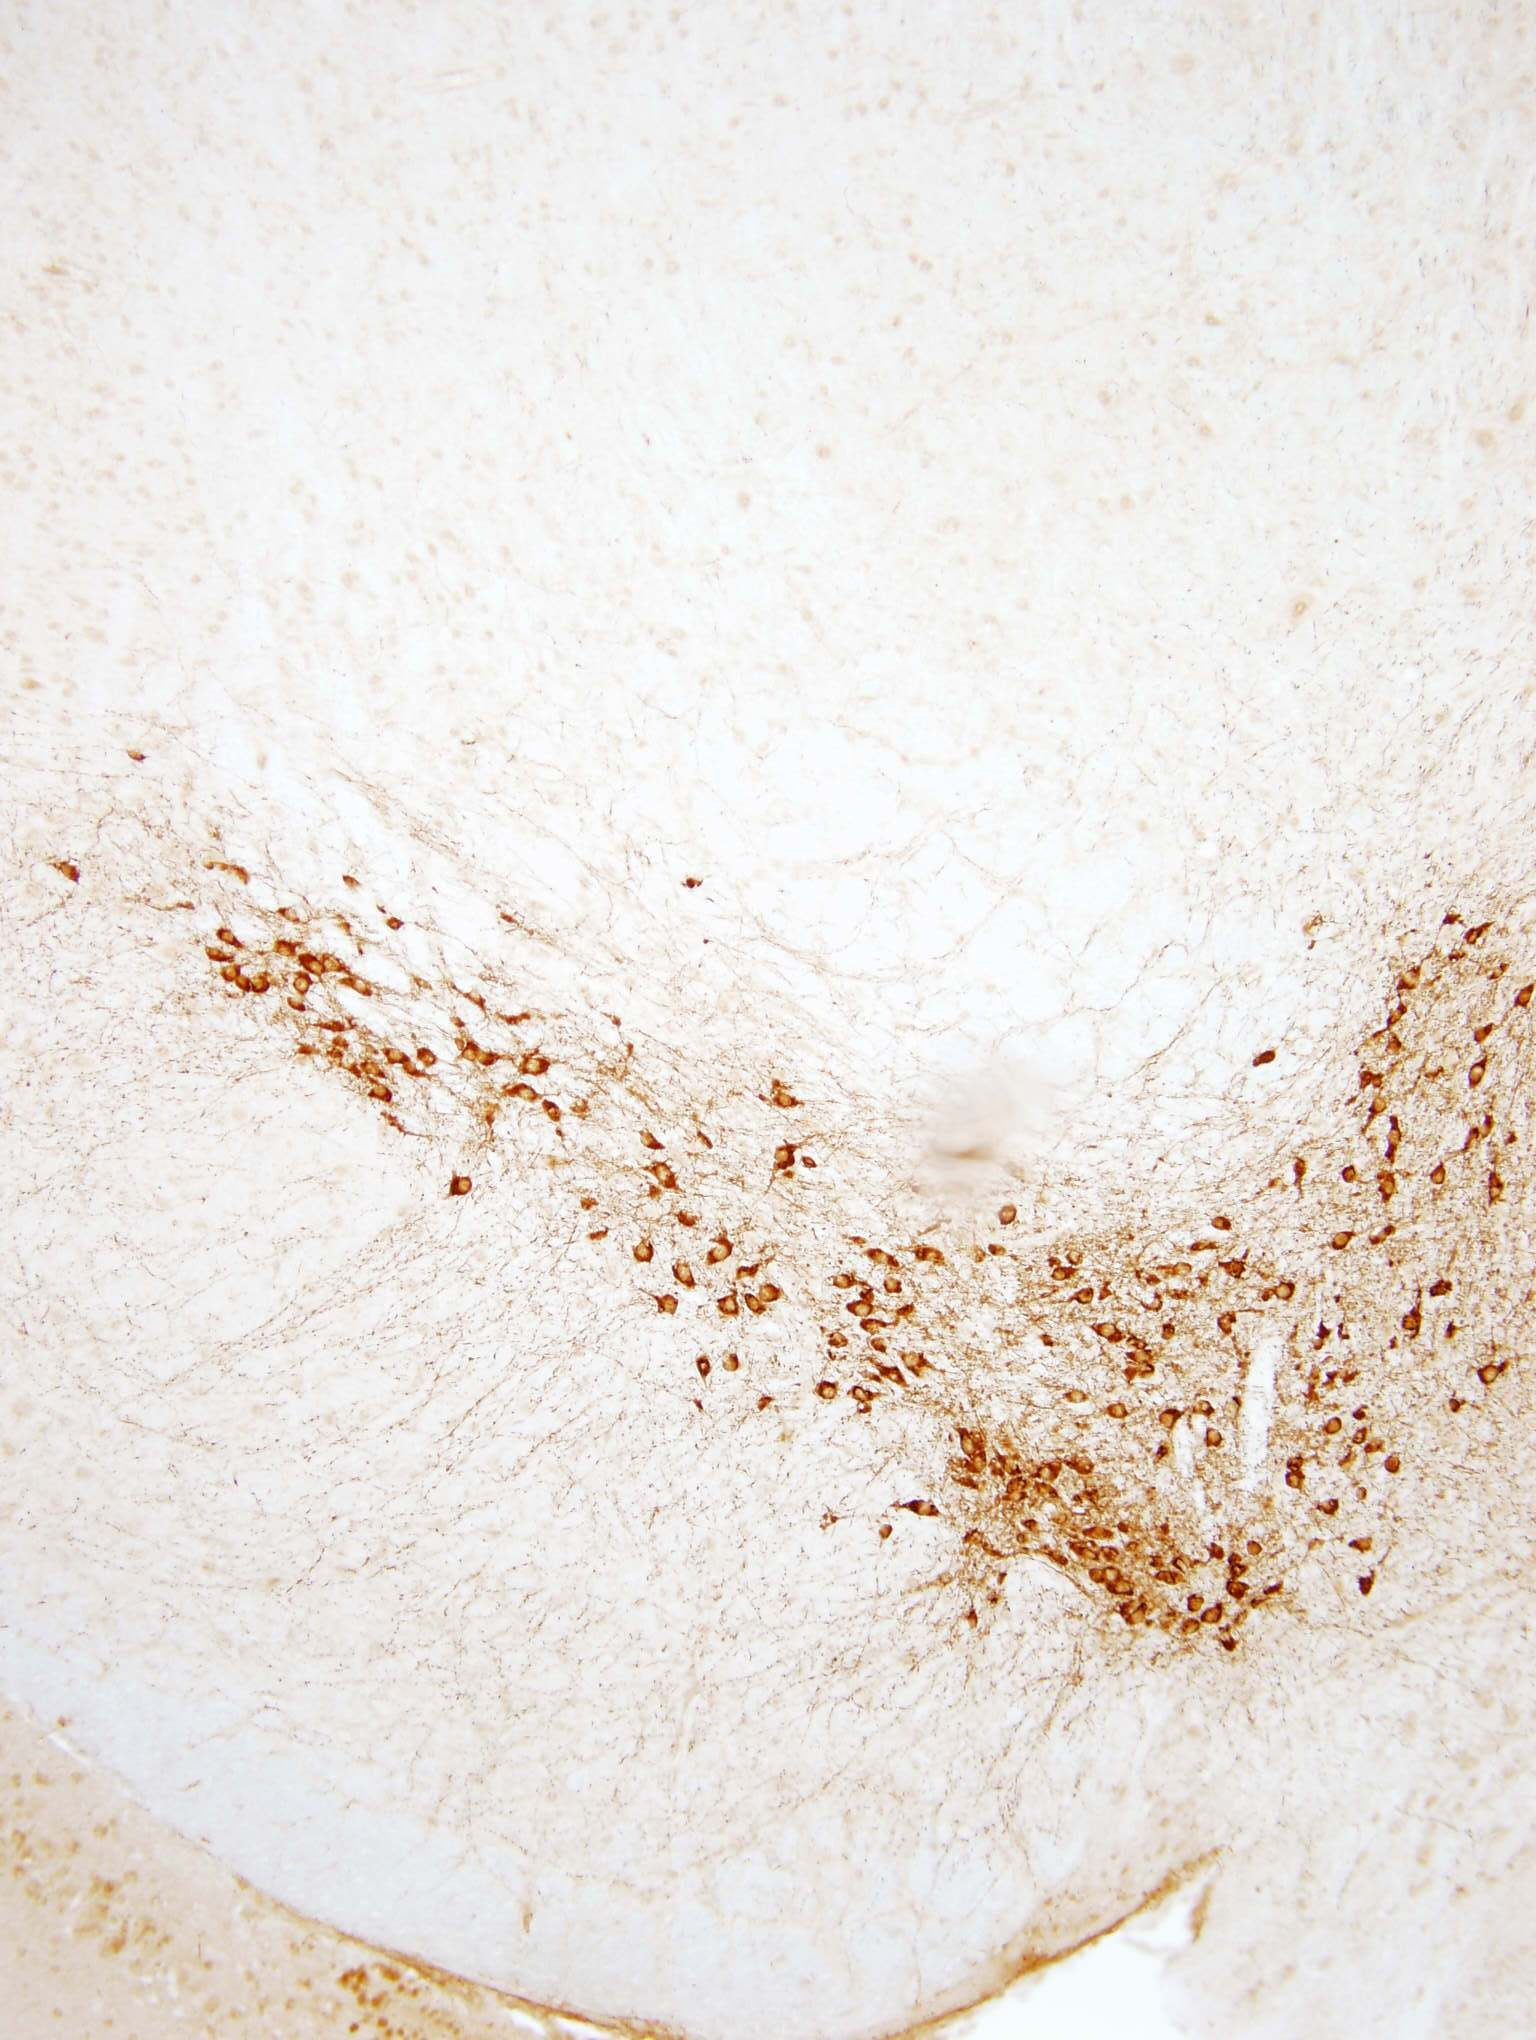neuron: (515, 1034, 561, 1082), (1079, 1518, 1117, 1555), (1091, 1313, 1126, 1350), (1475, 1355, 1512, 1390), (444, 1168, 479, 1205), (52, 853, 89, 889), (531, 1093, 566, 1130), (649, 1156, 684, 1193), (687, 1351, 724, 1387), (703, 1234, 741, 1269), (708, 1290, 745, 1326), (716, 1348, 753, 1384), (737, 1287, 774, 1322), (766, 1139, 803, 1174), (770, 1082, 807, 1118), (821, 1322, 857, 1359), (850, 1380, 886, 1418), (866, 1234, 902, 1271), (899, 1342, 936, 1377), (912, 1235, 947, 1272), (984, 1230, 1020, 1268), (1117, 1529, 1152, 1564), (1394, 1306, 1430, 1342), (1428, 1268, 1463, 1303), (208, 913, 244, 948), (507, 1074, 542, 1110), (566, 1092, 602, 1127), (623, 1234, 658, 1269), (636, 1126, 671, 1161), (652, 1287, 687, 1322), (670, 1253, 705, 1289), (676, 1195, 712, 1230), (731, 1250, 766, 1285), (762, 1268, 797, 1303), (812, 1377, 847, 1413), (823, 1259, 858, 1295), (879, 1264, 915, 1300), (908, 1490, 944, 1526), (992, 1198, 1028, 1234), (1021, 1516, 1046, 1540), (1037, 1461, 1062, 1485), (1052, 1264, 1076, 1289), (1066, 1385, 1091, 1409), (1068, 1242, 1092, 1266), (1073, 1284, 1097, 1308), (1073, 1455, 1097, 1479), (1087, 1564, 1112, 1588), (1105, 1566, 1129, 1590), (1108, 1401, 1133, 1426), (1128, 1342, 1152, 1366), (1134, 1361, 1158, 1385), (1141, 1550, 1165, 1574), (1158, 1321, 1183, 1345), (1158, 1567, 1183, 1592), (1170, 1255, 1194, 1279), (1179, 1617, 1204, 1642), (1184, 1592, 1208, 1616), (1191, 1232, 1215, 1256), (1192, 1398, 1217, 1422), (1200, 1608, 1225, 1632), (1205, 1429, 1229, 1453), (1215, 1629, 1239, 1653), (1218, 1313, 1242, 1337), (1223, 1256, 1247, 1280), (1225, 1580, 1249, 1605), (1244, 1535, 1268, 1559), (1255, 1284, 1279, 1308), (126, 743, 150, 768), (1283, 1472, 1307, 1497), (1286, 1453, 1310, 1477), (1307, 1535, 1331, 1559), (1310, 1330, 1334, 1355), (1317, 1495, 1341, 1519), (1321, 1416, 1346, 1440), (1347, 1427, 1371, 1451), (1347, 1487, 1371, 1511), (1349, 1535, 1373, 1559), (1363, 1435, 1388, 1459), (1371, 1097, 1396, 1121), (1371, 1222, 1396, 1247), (1378, 1180, 1402, 1205), (1379, 1451, 1404, 1476), (1384, 1034, 1409, 1058), (1384, 1122, 1409, 1147), (1386, 1006, 1410, 1030), (1399, 969, 1423, 993), (1430, 1163, 1454, 1187), (1463, 1129, 1488, 1153), (1463, 924, 1488, 948), (1465, 1061, 1489, 1085), (1471, 1022, 1496, 1047), (1480, 1113, 1504, 1137), (1488, 960, 1512, 984), (203, 940, 227, 964), (219, 961, 244, 985), (232, 972, 257, 997), (274, 939, 298, 963), (323, 1014, 347, 1039), (324, 1048, 349, 1072), (326, 1029, 350, 1053), (340, 872, 365, 897), (349, 976, 373, 1000), (361, 1060, 386, 1084), (369, 1084, 394, 1108), (382, 1045, 407, 1069), (384, 913, 408, 937), (399, 1060, 423, 1084), (415, 1048, 439, 1072), (447, 1013, 471, 1037), (457, 1042, 481, 1066), (465, 985, 489, 1010), (478, 1048, 502, 1072), (850, 1298, 874, 1322), (860, 1316, 884, 1340), (883, 1364, 907, 1388), (937, 1566, 962, 1590), (963, 1526, 987, 1550), (987, 1455, 1012, 1479), (1004, 1492, 1028, 1514), (1078, 1542, 1100, 1566), (1099, 1279, 1121, 1303), (1099, 1547, 1121, 1571), (1115, 1579, 1139, 1601), (1141, 1292, 1165, 1314), (1150, 1442, 1175, 1464), (1162, 1408, 1184, 1432), (1175, 1550, 1199, 1572), (1204, 1538, 1226, 1563), (1212, 1211, 1234, 1235), (1226, 1563, 1250, 1585), (1249, 1595, 1271, 1619), (1267, 1579, 1291, 1601), (1275, 1277, 1297, 1301), (1333, 1227, 1355, 1251), (1338, 1163, 1362, 1185), (1339, 1363, 1363, 1385), (1446, 1397, 1468, 1421), (1483, 1177, 1505, 1201), (252, 972, 274, 997), (278, 905, 302, 927), (286, 992, 310, 1014), (298, 955, 323, 977), (319, 955, 344, 977), (415, 976, 439, 998), (857, 1280, 879, 1305), (868, 1334, 892, 1356), (878, 1526, 900, 1550), (895, 1305, 920, 1327), (957, 1437, 979, 1461), (962, 1609, 984, 1634), (970, 1455, 992, 1479), (294, 976, 316, 998)
